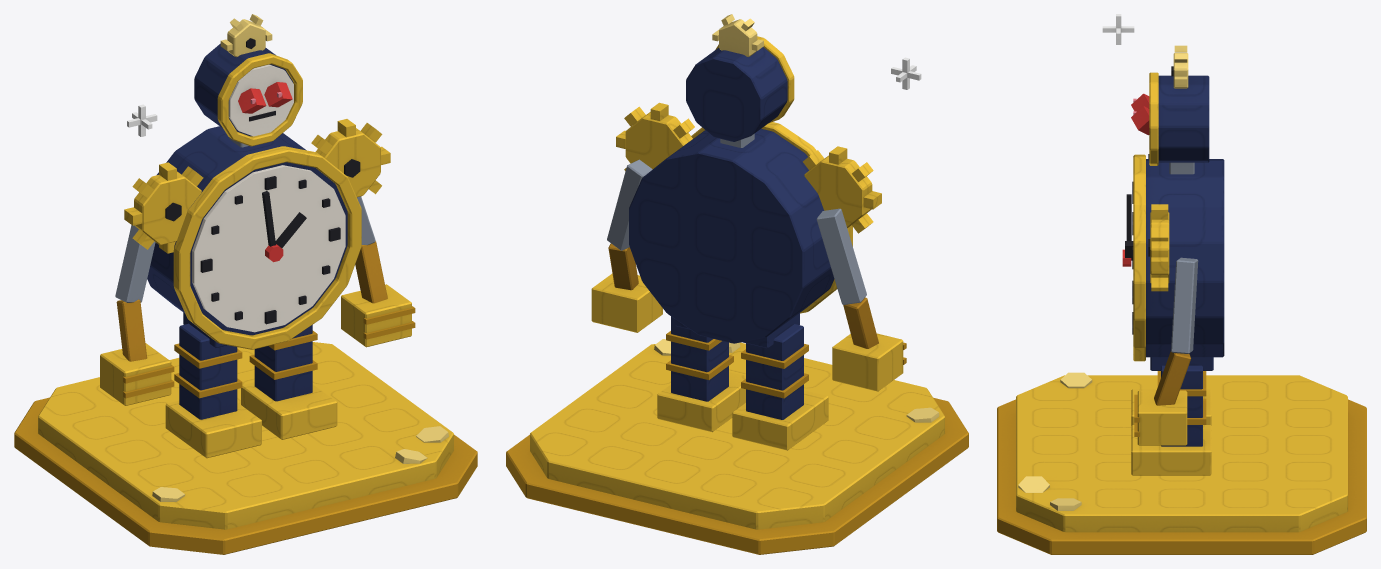
Rendered from ClockGolem.fbx.
The picture shows the model from 3 angles, left to right: view 1: azimuth 30°, elevation 25°; view 2: azimuth 150°, elevation 25°; view 3: azimuth 270°, elevation 25°; orthographic projection. The views are drawn at different scales.
Visible parts, largest first — view 1: Art_ClockGolem_Stand, Art_ClockGolem_Body, Art_ClockGolem_Head, Art_ClockGolem_LegL, Art_ClockGolem_LegR, Art_ClockGolem_ArmL, Art_ClockGolem_ArmR, Art_ClockGolem_GearL, Art_ClockGolem_GearR, Art_ClockGolem_Hands; view 2: Art_ClockGolem_Stand, Art_ClockGolem_Body, Art_ClockGolem_Head, Art_ClockGolem_LegL, Art_ClockGolem_ArmL, Art_ClockGolem_LegR, Art_ClockGolem_ArmR, Art_ClockGolem_GearL, Art_ClockGolem_GearR; view 3: Art_ClockGolem_Stand, Art_ClockGolem_Body, Art_ClockGolem_Head, Art_ClockGolem_ArmR, Art_ClockGolem_LegR, Art_ClockGolem_GearR, Art_ClockGolem_Hands.
Boxes of the visible parts, left/top/right/bottom form: Art_ClockGolem_Stand: left=14, top=104, right=477, bottom=554; Art_ClockGolem_Body: left=147, top=126, right=361, bottom=349; Art_ClockGolem_Head: left=194, top=14, right=302, bottom=147; Art_ClockGolem_LegL: left=165, top=323, right=261, bottom=458; Art_ClockGolem_LegR: left=241, top=325, right=337, bottom=439; Art_ClockGolem_ArmL: left=100, top=225, right=174, bottom=405; Art_ClockGolem_ArmR: left=341, top=196, right=415, bottom=347; Art_ClockGolem_GearL: left=124, top=162, right=203, bottom=253; Art_ClockGolem_GearR: left=311, top=119, right=390, bottom=197; Art_ClockGolem_Hands: left=262, top=191, right=306, bottom=262; Art_ClockGolem_Stand: left=506, top=57, right=968, bottom=554; Art_ClockGolem_Body: left=629, top=122, right=852, bottom=348; Art_ClockGolem_Head: left=686, top=14, right=794, bottom=147; Art_ClockGolem_LegL: left=732, top=324, right=828, bottom=450; Art_ClockGolem_ArmL: left=816, top=208, right=906, bottom=391; Art_ClockGolem_LegR: left=657, top=316, right=745, bottom=432; Art_ClockGolem_ArmR: left=591, top=159, right=662, bottom=332; Art_ClockGolem_GearL: left=803, top=146, right=881, bottom=233; Art_ClockGolem_GearR: left=616, top=102, right=694, bottom=170; Art_ClockGolem_Stand: left=997, top=14, right=1366, bottom=554; Art_ClockGolem_Body: left=1132, top=154, right=1224, bottom=370; Art_ClockGolem_Head: left=1131, top=45, right=1209, bottom=174; Art_ClockGolem_ArmR: left=1134, top=257, right=1198, bottom=445; Art_ClockGolem_LegR: left=1131, top=365, right=1211, bottom=475; Art_ClockGolem_GearR: left=1148, top=204, right=1169, bottom=291; Art_ClockGolem_Hands: left=1122, top=194, right=1133, bottom=266.
Size of the model in its own units: 3.5 by 4.46 by 3.5.
